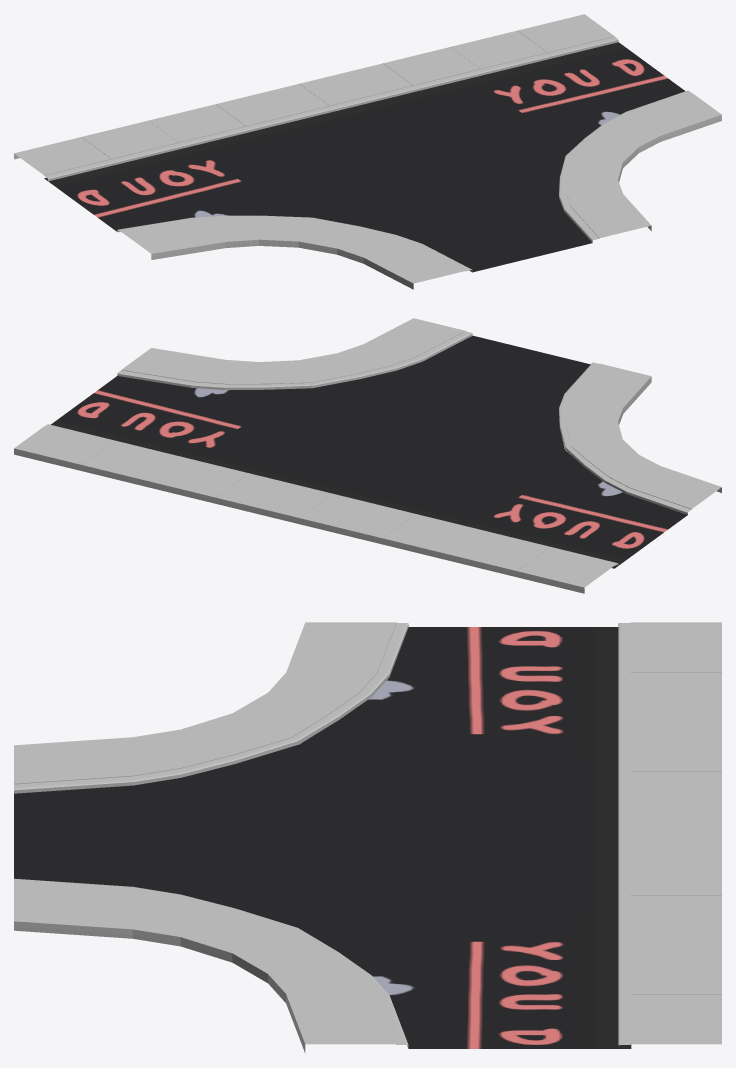
The model's file is SM_Street_3Way.fbx.
3 views of the same model, one above another, from view 1: azimuth 30°, elevation 25°; view 2: azimuth 150°, elevation 25°; view 3: azimuth 270°, elevation 25° (orthographic). The views are drawn at different scales.
Visible parts, largest first — view 1: SM_Road_3Way, SM_Sidewalk_3Way; view 2: SM_Road_3Way, SM_Sidewalk_3Way; view 3: SM_Road_3Way, SM_Sidewalk_3Way.
Part boxes in pixels (x1,y1,x2,y2): SM_Road_3Way: [44, 42, 685, 272]; SM_Sidewalk_3Way: [14, 14, 721, 289]; SM_Road_3Way: [51, 335, 687, 568]; SM_Sidewalk_3Way: [14, 318, 721, 593]; SM_Road_3Way: [14, 627, 631, 1048]; SM_Sidewalk_3Way: [14, 622, 721, 1052].
Bounding box in the file's own units: 1495 × 15.45 × 1059.
